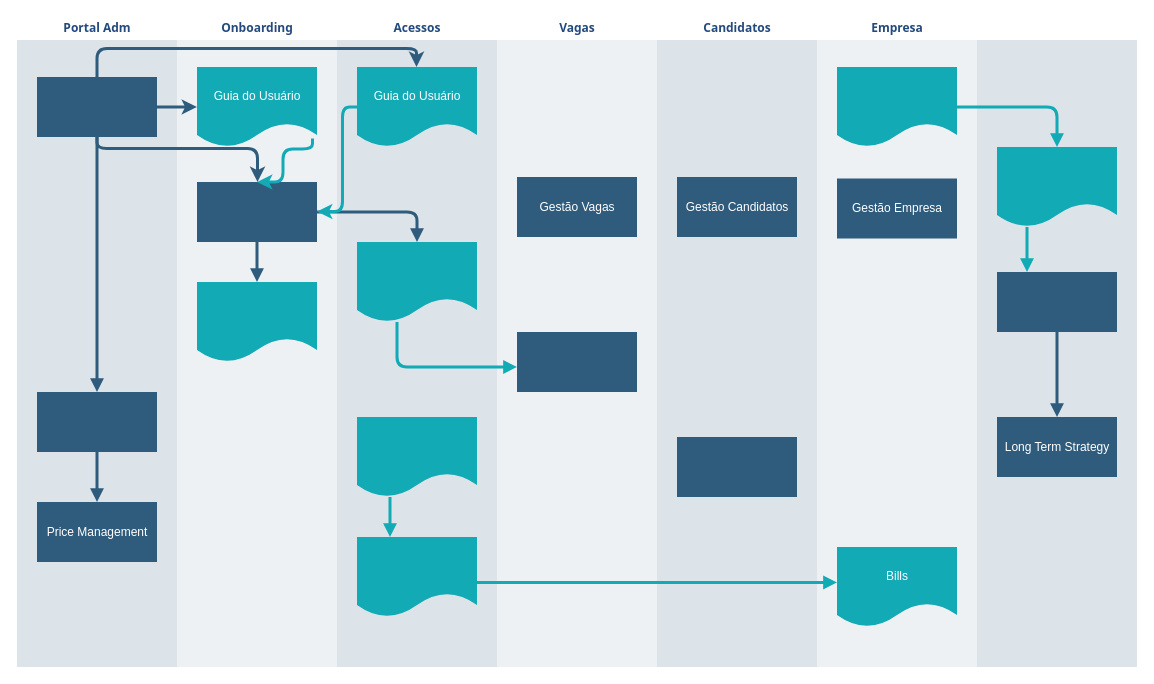
The diagram is 1154 pixels wide and 684 high, and some of its shapes have lost their labels. Here are the shapes that lost their labels. From the top down, the centre of each, then its label:
At [96,106]: "Gestão do Portal".
At [256,212]: "Gestão Usuário".
At [96,422]: "Credit Management".
